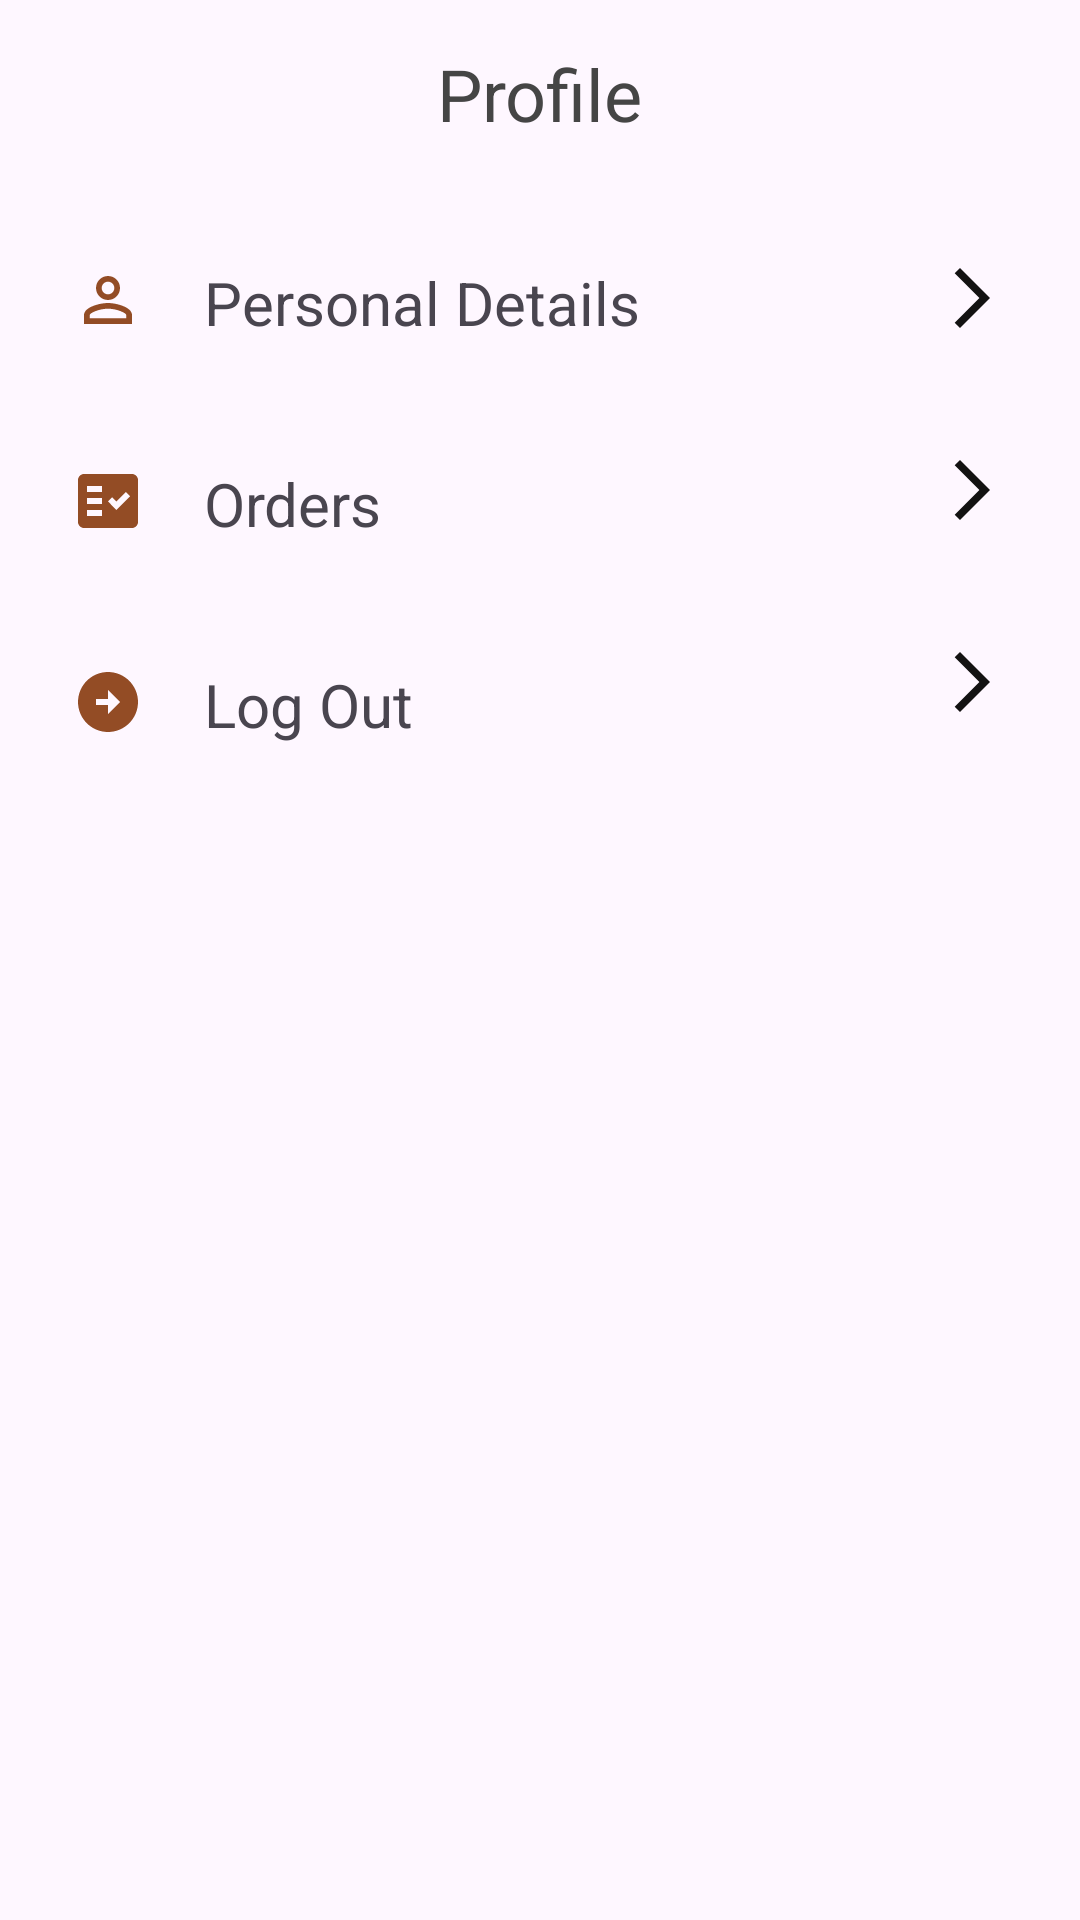

Screen size 1080 x 1920. Icon name, then its center in pixels as (x,y):
arrow circle right: (108,702)
arrow forward: (972,298), (972,490), (972,682)
